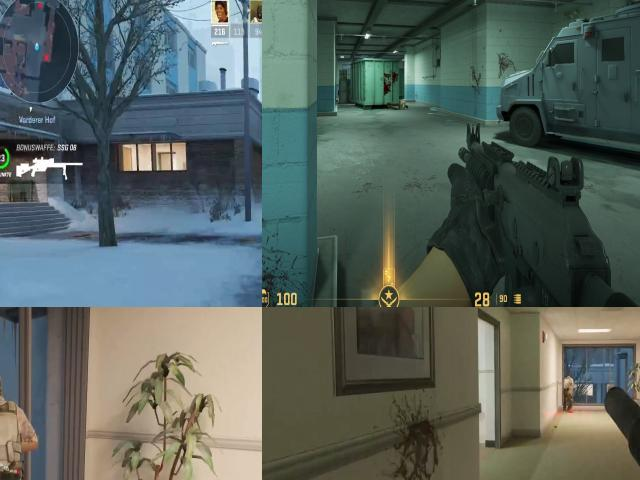Dead: (389, 100, 408, 108)
T: (0, 367, 33, 479), (562, 369, 575, 395)
T-Head: (0, 369, 8, 410)
